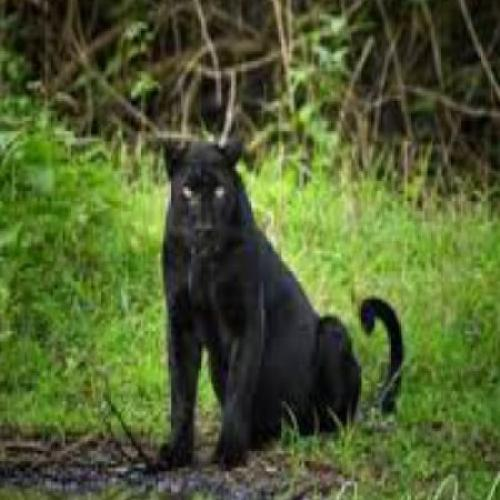panther-endangered: (164, 138, 399, 442)
